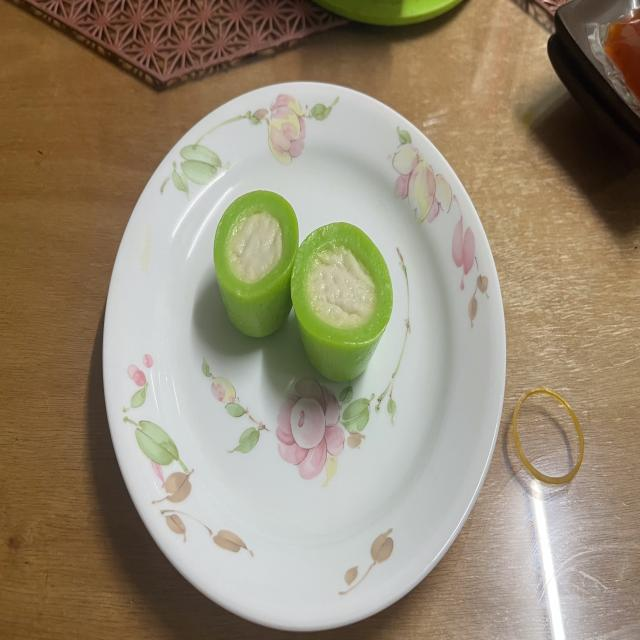nona-manis: (291, 222, 392, 382), (214, 191, 299, 338)
